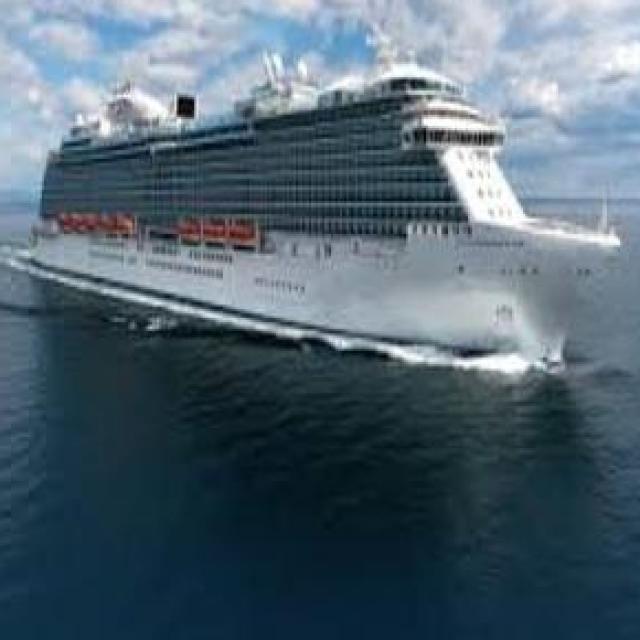passenger ship: (29, 66, 622, 365)
